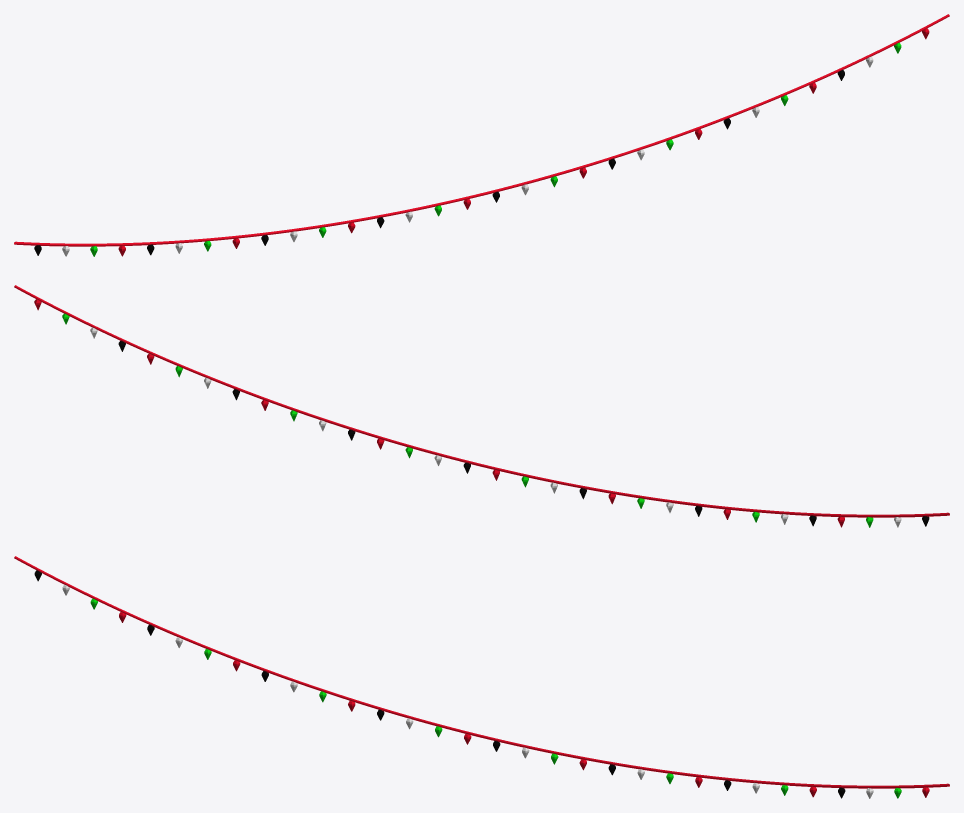
Rendered from building lights.dae.
3 views of the same model, one above another, from view 1: azimuth 30°, elevation 25°; view 2: azimuth 150°, elevation 25°; view 3: azimuth 330°, elevation 25° (orthographic).
Parts seen in each view (by area): view 1: NurbsCurve.001, NurbsCurve; view 2: NurbsCurve.001, NurbsCurve; view 3: NurbsCurve.001, NurbsCurve.
Boxes of the visible parts, x1,y1,x2,y2 form: NurbsCurve.001: (14,14,949,246); NurbsCurve: (34,28,929,256); NurbsCurve.001: (14,285,949,517); NurbsCurve: (34,299,929,527); NurbsCurve.001: (14,556,949,788); NurbsCurve: (34,570,929,798).
Size of the model in its own units: 13.43 by 0.0905 by 1.07.
